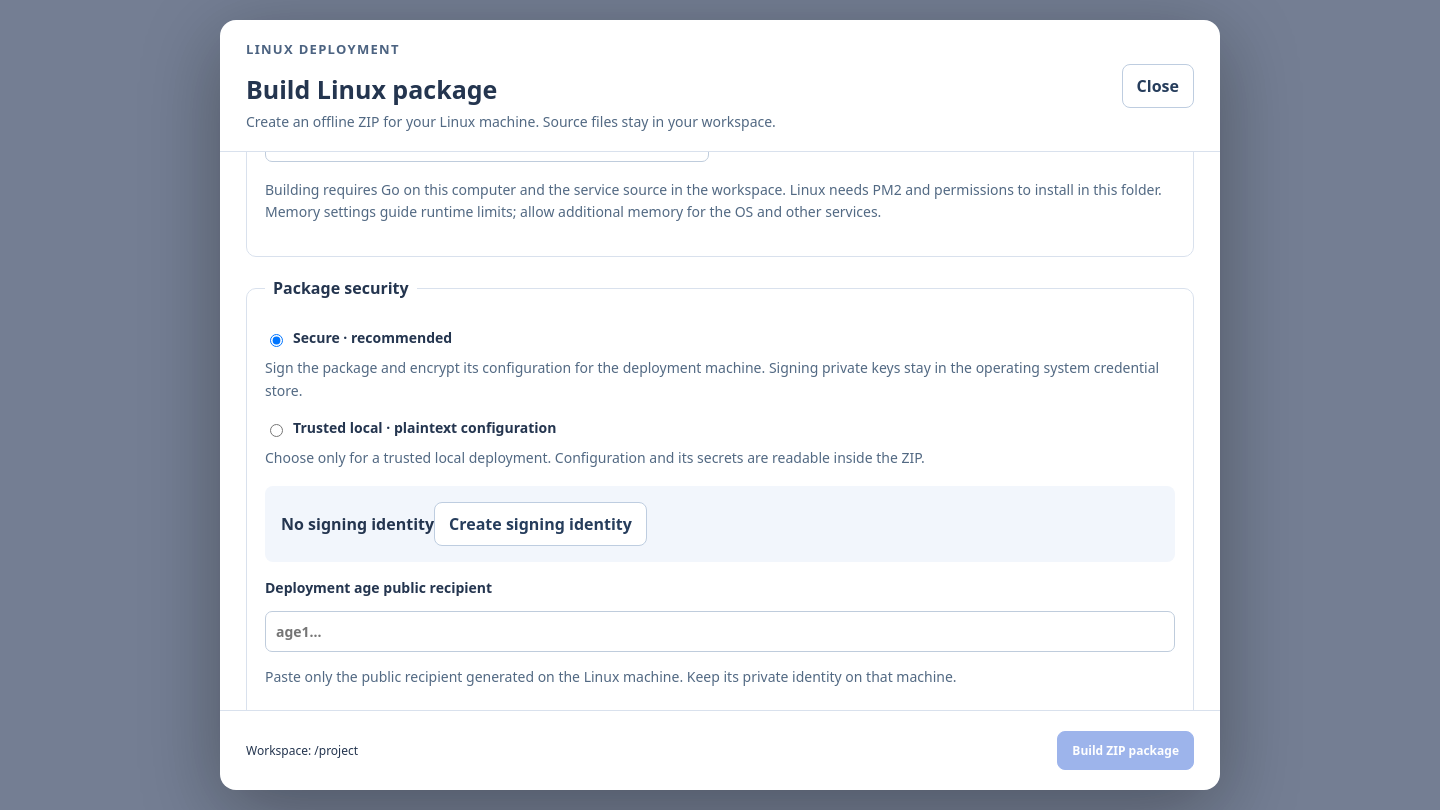
Test: blocks workflow names the deployed service cannot load before invoking the builder
(page scrolled)
Check: the text "No signing identity" is shown, box 281,512 -> 434,534
Click the radio button labelled "Trusted local · plaintext configuration" at (276, 431), box 270,424 -> 283,437
(page scrolled)
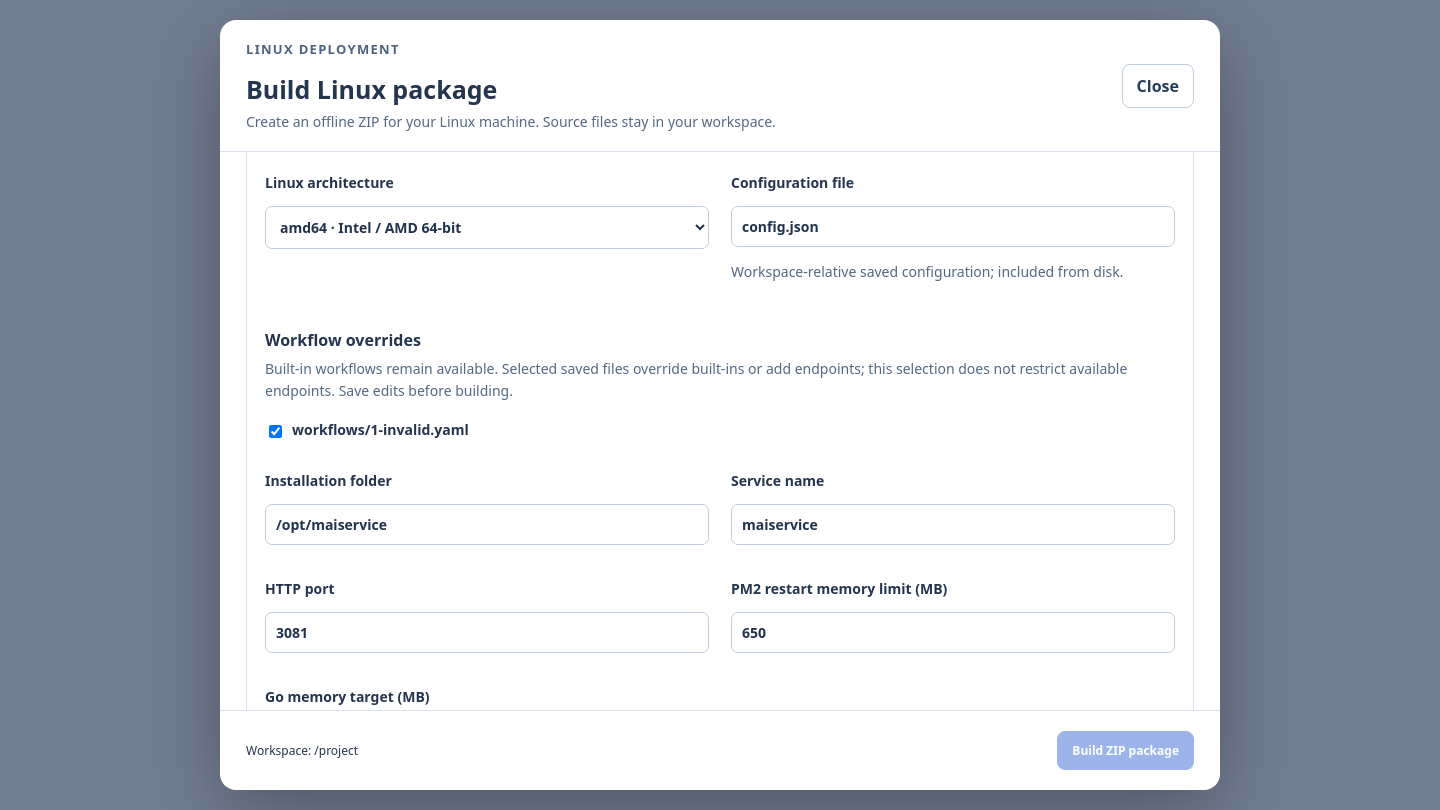
Check: the button "Build ZIP package" is disabled, box 1057,731 -> 1194,770
Click the checkbox labelled "workflows/1-invalid.yaml" at (276, 431), box 269,425 -> 282,438
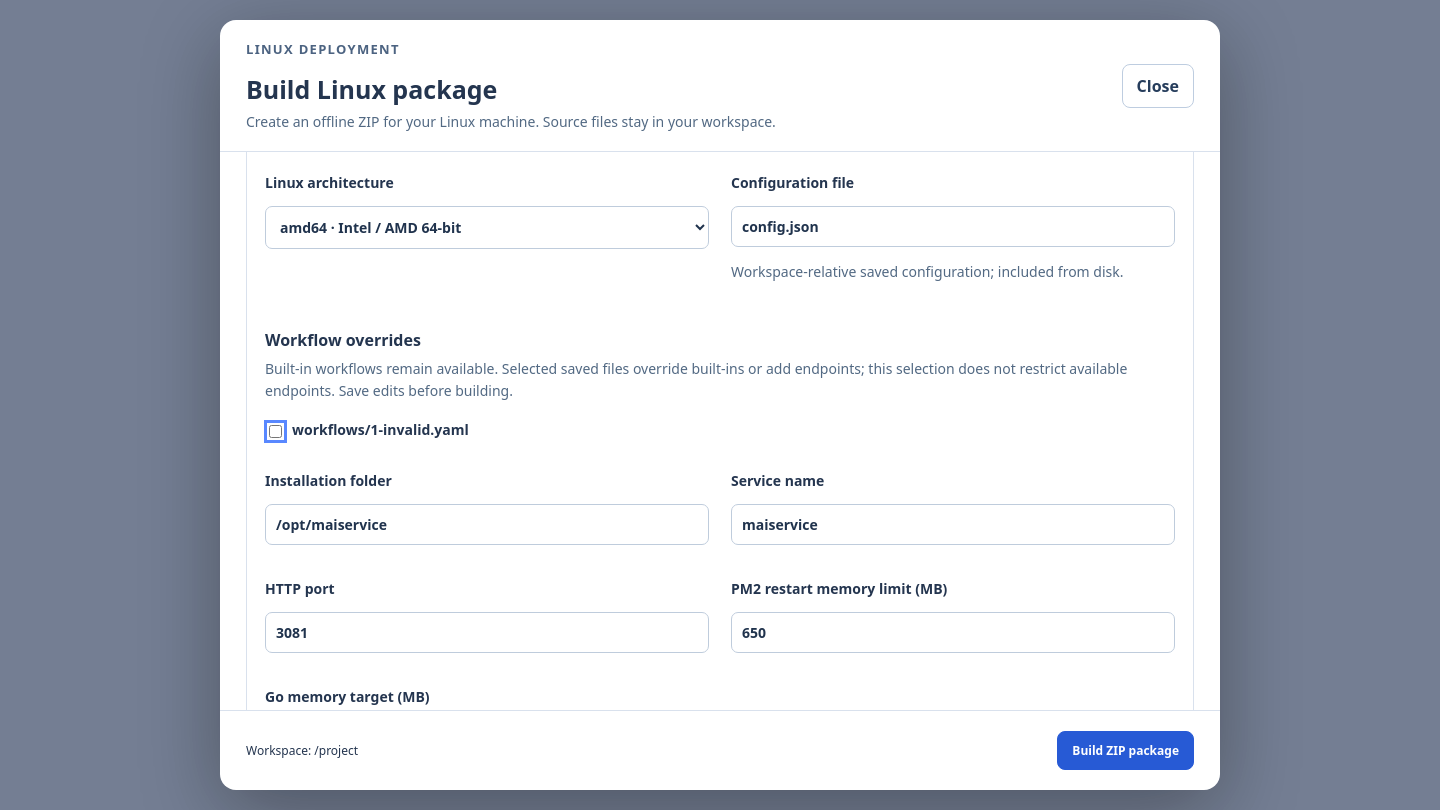
Check: the button "Build ZIP package" is enabled, box 1057,731 -> 1194,770
